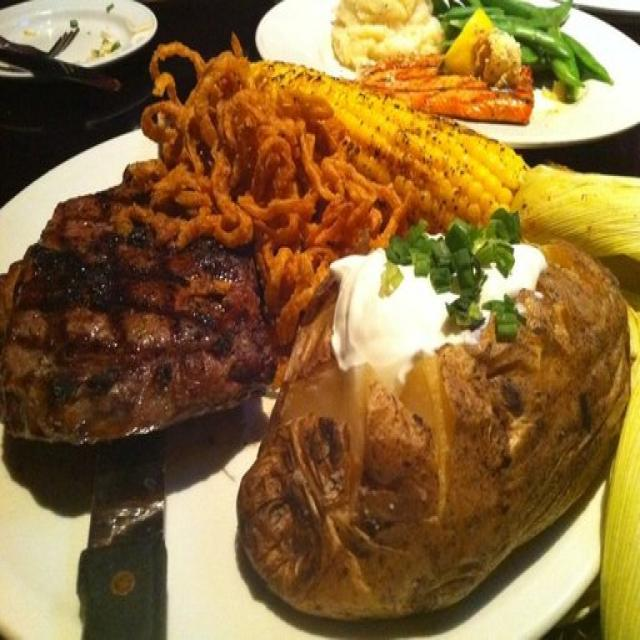Steak: (19, 159, 274, 455)
